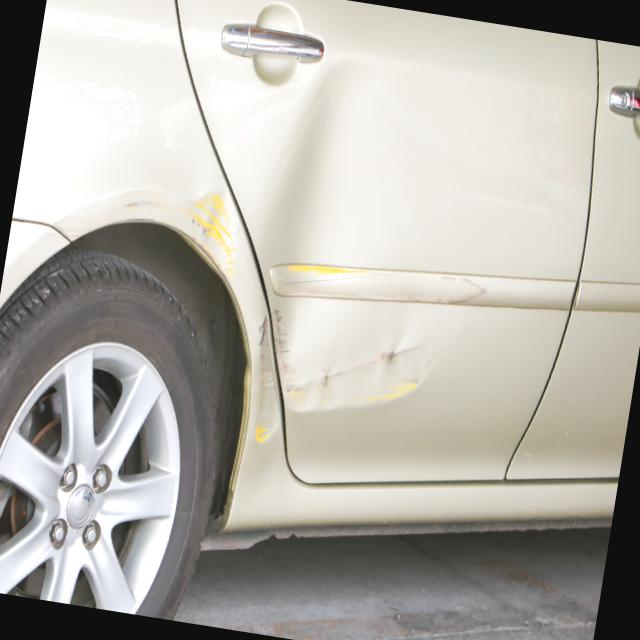Cabossage: (234, 49, 391, 405)
Rayure: (310, 314, 430, 434), (114, 171, 253, 274), (235, 290, 323, 421), (286, 251, 386, 290), (357, 368, 429, 421), (253, 409, 274, 455)
